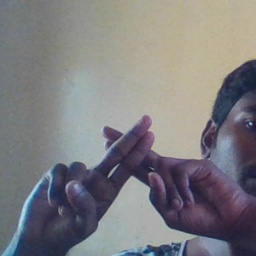F: (74, 107, 190, 222)
